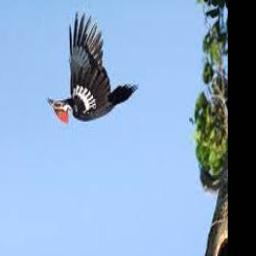Woodpecker: (47, 12, 139, 126)
